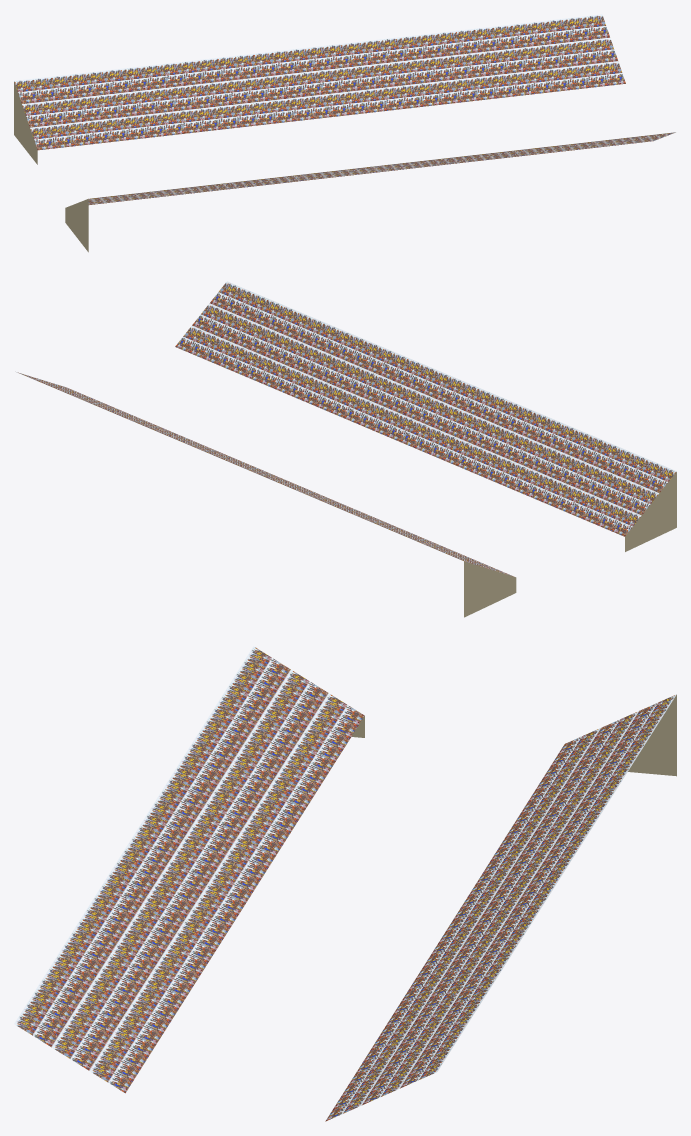
3 views of the same model, one above another, from view 1: azimuth 30°, elevation 25°; view 2: azimuth 150°, elevation 25°; view 3: azimuth 270°, elevation 25° (orthographic). The views are drawn at different scales.
Visible parts, largest first — view 1: obj-60; view 2: obj-60; view 3: obj-60.
Boxes of the visible parts, box(x1,y1,x2,y2) form: obj-60: box(14, 14, 676, 252); obj-60: box(15, 281, 676, 617); obj-60: box(14, 646, 676, 1121).
Size of the model in its own units: 9.42 by 0.8467 by 6.2.
1 material, 1 textured.
